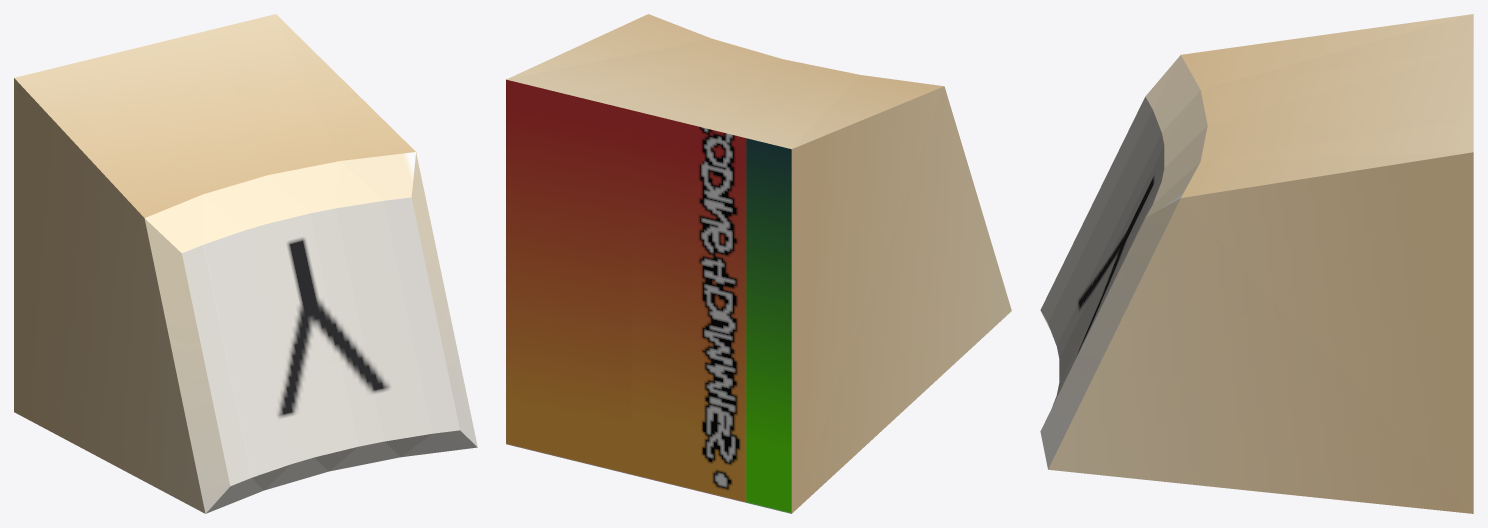
Rendered from button.fbx.
3 views of the same model, side by side, from view 1: azimuth 30°, elevation 25°; view 2: azimuth 150°, elevation 25°; view 3: azimuth 270°, elevation 25° (orthographic). The views are drawn at different scales.
Visible parts, largest first — view 1: button; view 2: button; view 3: button.
Boxes of the visible parts, bbox=[...] form: button: bbox=[14, 14, 477, 513]; button: bbox=[506, 14, 1011, 513]; button: bbox=[1040, 14, 1473, 513].
Size of the model in its own units: 19.5 by 22.88 by 24.83.
